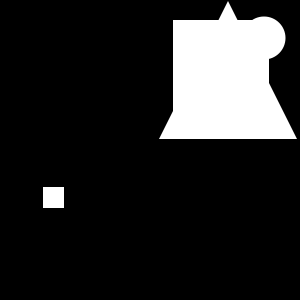circle: (173, 20, 269, 116), (43, 187, 64, 208)
rectangle: (242, 17, 286, 60)
triangle: (159, 1, 297, 139), (168, 27, 278, 137)
